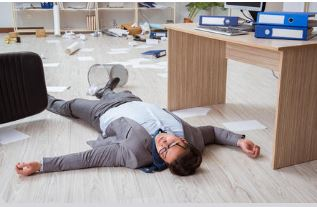falling: (20, 72, 260, 176)
